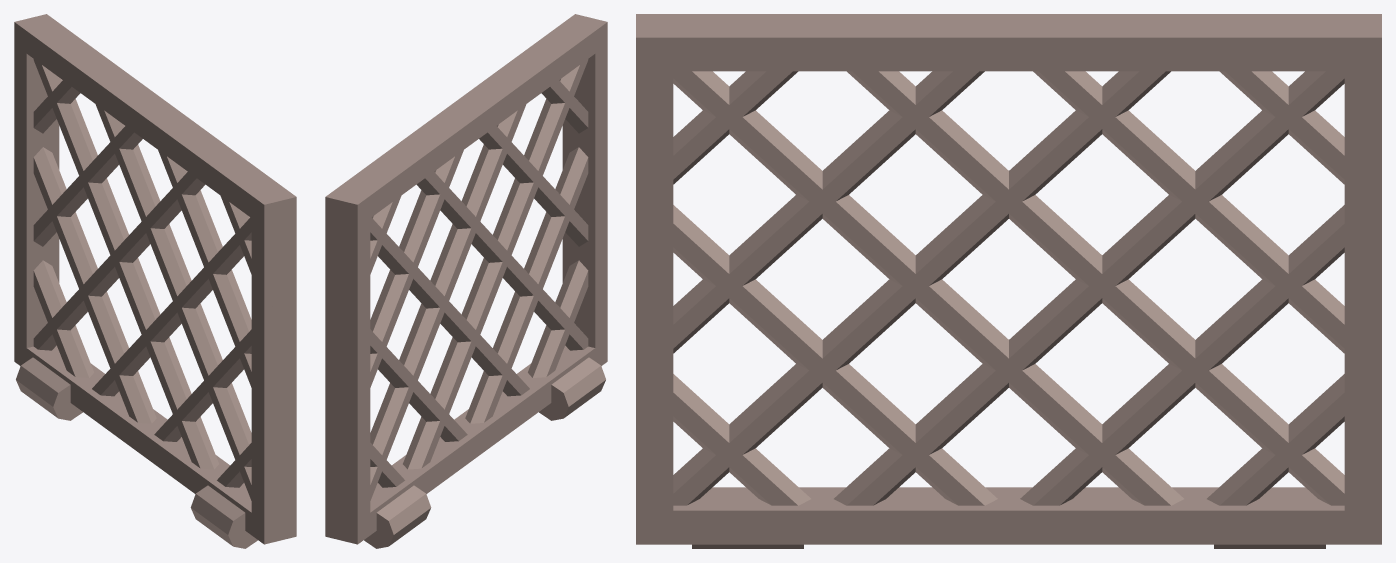
The model's file is RustedMetalMechSmallGratedWindow1.fbx.
3 renders of one model, left to right at view 1: azimuth 30°, elevation 25°; view 2: azimuth 150°, elevation 25°; view 3: azimuth 270°, elevation 25°, orthographic. The views are drawn at different scales.
Parts seen in each view (by area): view 1: RustedMetalMechSmallGratedWindow1; view 2: RustedMetalMechSmallGratedWindow1; view 3: RustedMetalMechSmallGratedWindow1.
Boxes of the visible parts, <box> form: RustedMetalMechSmallGratedWindow1: <box>14,14,296,548</box>; RustedMetalMechSmallGratedWindow1: <box>325,14,607,548</box>; RustedMetalMechSmallGratedWindow1: <box>636,14,1381,548</box>.
Size of the model in its own units: 23 by 158 by 200.
